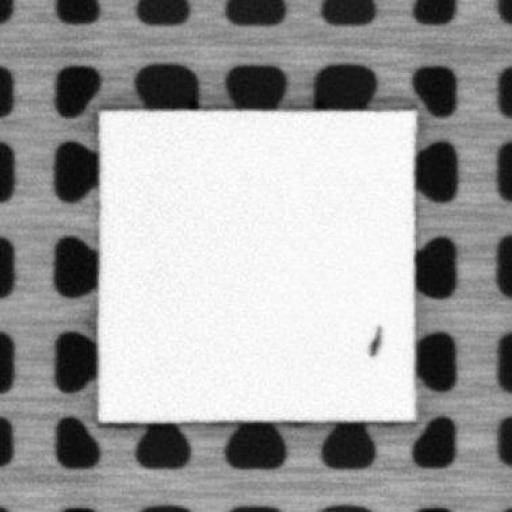DIE_INK: (364, 322, 384, 358)
